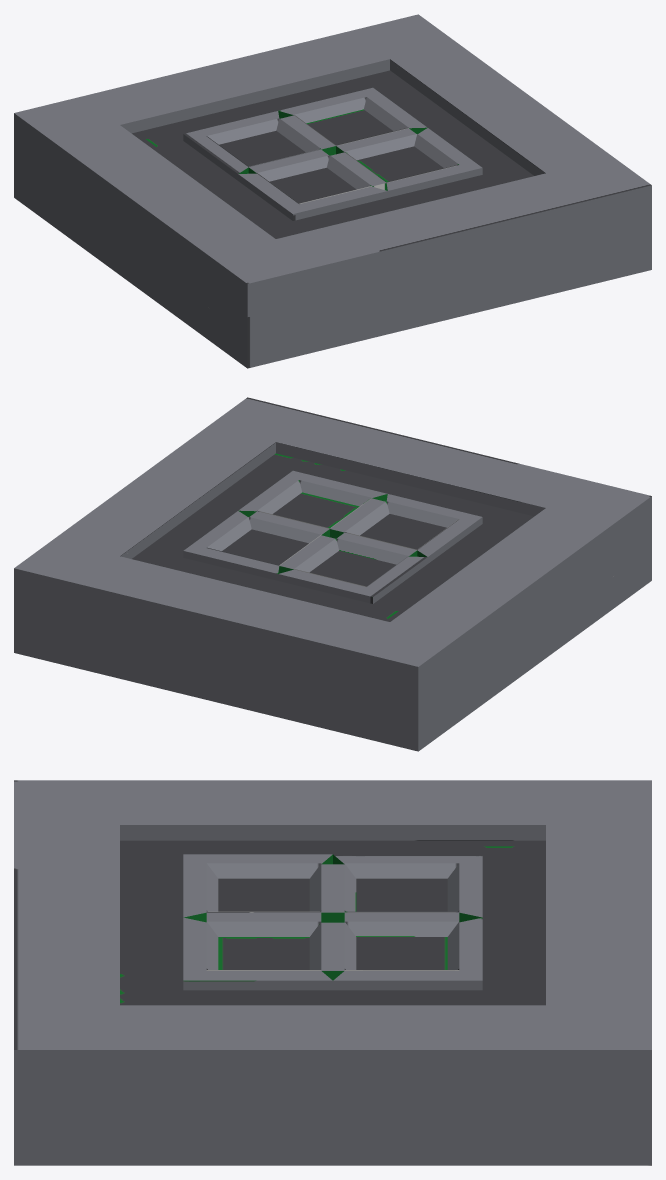
Rendered from PressurePlateButton.fbx.
3 renders of one model, top to bottom at view 1: azimuth 30°, elevation 25°; view 2: azimuth 150°, elevation 25°; view 3: azimuth 270°, elevation 25°, orthographic. The views are drawn at different scales.
Visible parts, largest first — view 1: Cube; view 2: Cube; view 3: Cube.
Part boxes in pixels (x1=…): Cube: x1=14, y1=14, x2=651, y2=368; Cube: x1=14, y1=397, x2=651, y2=751; Cube: x1=14, y1=780, x2=651, y2=1165.
Bounding box in the file's own units: 1000 × 200 × 1000.
1 material, 1 textured.
